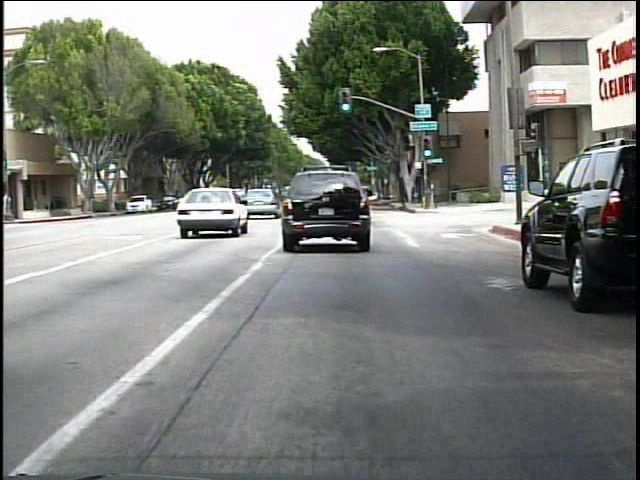person: (6, 188, 22, 220)
